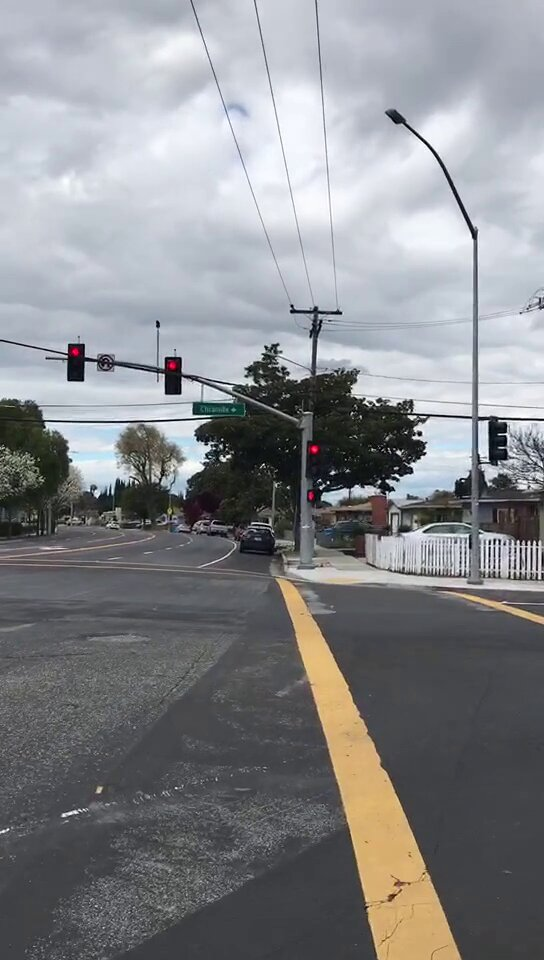red_light: (69, 345, 86, 381), (165, 358, 181, 392), (307, 442, 322, 477)
